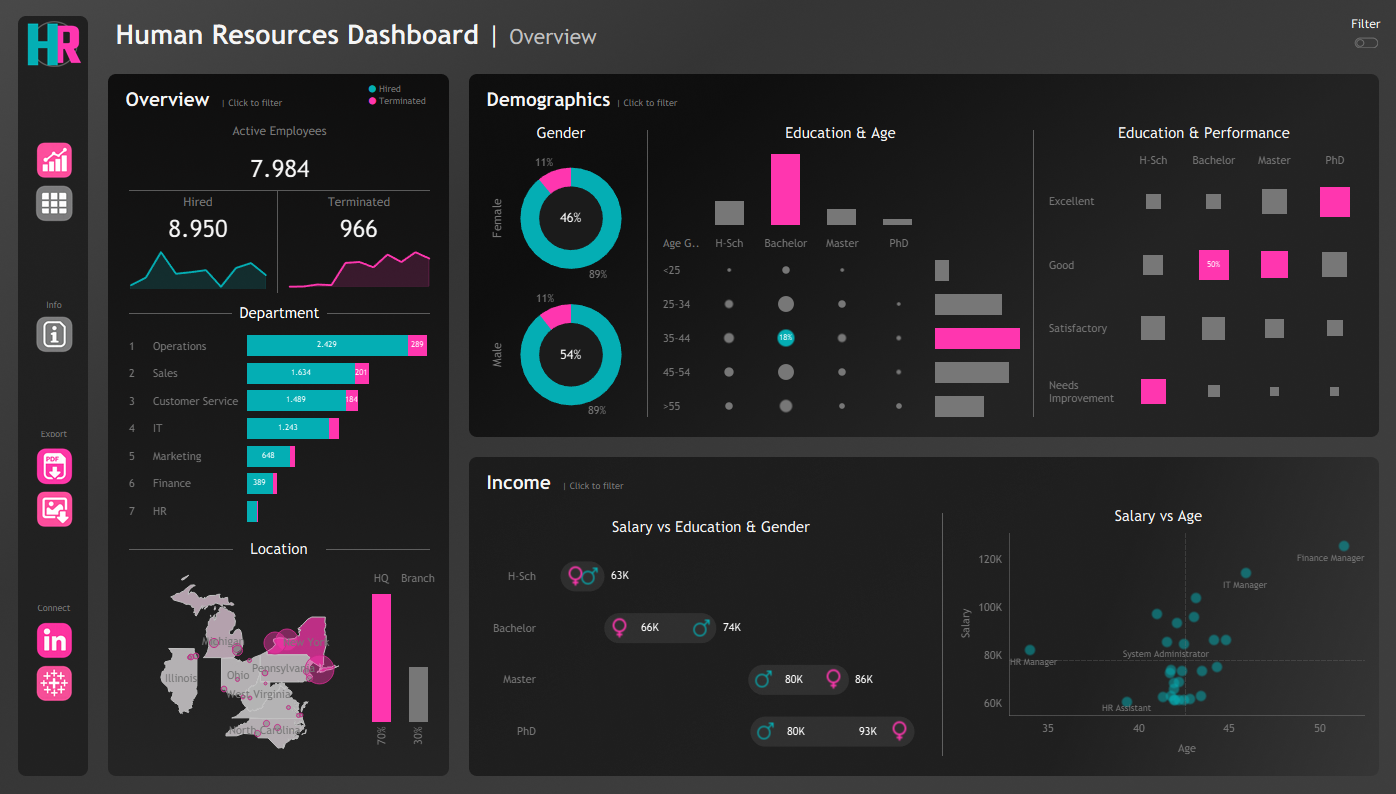

The dashboard page shown, as its layout file describes it:
{"tool":"tableau","page":{"name":"HR Overview","canvas":[1400,800],"ordinal":1},"visuals":[{"type":"image","param":"Image/bg summary.png","box":[0,0,1400,800]},{"type":"blank","box":[90,0,1308,231]},{"type":"text","box":[110,0,673,78]},{"type":"blank","box":[783,0,597,78]},{"type":"filter","title":"Salary vs Gender","param":"[federated.1sm890q15bl8hl1ebqggo0z0ojxl].[none:Gender:nk]","box":[664,16,170,48]},{"type":"filter","title":"Salary vs Gender","param":"[federated.1sm890q15bl8hl1ebqggo0z0ojxl].[none:Calculation_1305433860177922:nk]","box":[834,16,169,48]},{"type":"filter","title":"Salary vs Gender","param":"[federated.1sm890q15bl8hl1ebqggo0z0ojxl].[none:Calculation_0285361651957766:nk]","box":[1003,16,169,48]},{"type":"filter","title":"Salary vs Gender","param":"[federated.1sm890q15bl8hl1ebqggo0z0ojxl].[yr:Hiredate:ok]","box":[1172,16,169,48]},{"type":"image","param":"Image/Logo_out.png","box":[20,20,70,55]},{"type":"dashboard-object","box":[1355,34,24,24]},{"type":"blank","box":[20,75,70,60]},{"type":"text","box":[367,85,100,30]},{"type":"text","box":[120,88,321,31]},{"type":"text","box":[481,88,889,31]},{"type":"text","box":[120,119,321,32]},{"type":"text","box":[481,124,162,26]},{"type":"blank","box":[648,124,1,307]},{"type":"text","box":[654,124,375,26]},{"type":"blank","box":[1034,124,1,307]},{"type":"text","box":[1040,124,330,26]},{"type":"dashboard-object","box":[30,145,50,38]},{"type":"worksheet","title":"Gender","mark":"Pie","rows":["Gender"],"cols":["Calculation_0285361655631880","Calculation_0285361655631880"],"box":[481,150,162,281]},{"type":"worksheet","title":"Education Levels","mark":"Bar","rows":["Calculation_0285361647034368"],"cols":["Education Level"],"box":[654,150,375,83]},{"type":"worksheet","title":"Education vs Performance","mark":"Square","rows":["Performance Rating"],"cols":["Education Level"],"box":[1040,150,330,281]},{"type":"worksheet","title":"BAN Active","mark":"Automatic","box":[120,151,321,43]},{"type":"dashboard-object","box":[30,183,50,43]},{"type":"blank","box":[120,194,321,1]},{"type":"text","box":[120,195,158,22]},{"type":"blank","box":[278,195,1,102]},{"type":"text","box":[279,195,162,22]},{"type":"worksheet","title":"BAN Hired","mark":"Automatic","box":[120,217,158,32]},{"type":"worksheet","title":"BAN Terminated","mark":"Automatic","box":[279,217,162,32]},{"type":"blank","box":[30,226,50,73.3]},{"type":"text","box":[90,231,1308,200]},{"type":"worksheet","title":"Age vs Education","mark":"Circle","rows":["Calculation_1305433758306305"],"cols":["Education Level"],"box":[654,233,278,198]},{"type":"worksheet","title":"Age Groups","mark":"Bar","rows":["Calculation_1305433758306305"],"cols":["Calculation_0285361647034368"],"box":[932,233,97,198]},{"type":"worksheet","title":"Hired by Year","mark":"Line","rows":["Calculation_0285361647034368","Calculation_0285361647034368"],"cols":["Hiredate"],"box":[120,249,158,48]},{"type":"worksheet","title":"Terminated by Year","mark":"Line","rows":["Calculation_0285361647202305","Calculation_0285361647202305"],"cols":["Termdate"],"box":[279,249,162,48]},{"type":"text","box":[30,299.3,50,20]},{"type":"blank","box":[130,302,103,30]},{"type":"text","box":[233,302,95,30]},{"type":"blank","box":[328,302,103,30]},{"type":"dashboard-object","box":[30,319.3,50,38]},{"type":"worksheet","title":"Department","mark":"Bar","rows":["Calculation_0285361651195908","Department"],"cols":["Calculation_0285361647034368"],"box":[120,332,321,201]},{"type":"blank","box":[30,357.3,50,73.3]},{"type":"text","box":[30,430.7,50,20]},{"type":"blank","box":[90,431,1308,369]},{"type":"dashboard-object","box":[30,450.7,50,38]},{"type":"text","box":[481,471,889,31]},{"type":"dashboard-object","box":[30,488.7,50,43]},{"type":"blank","box":[943,507,1,263]},{"type":"text","box":[949,507,421,26]},{"type":"text","box":[486,512,452,38]},{"type":"blank","box":[30,531.7,50,73.3]},{"type":"worksheet","title":"Salary vs Age","mark":"Shape","rows":["Salary"],"cols":["Calculation_1305433757818880"],"box":[949,533,421,237]},{"type":"blank","box":[130,538,104.3,30]},{"type":"text","box":[234.3,538,92.3,30]},{"type":"blank","box":[326.6,538,104.3,30]},{"type":"worksheet","title":"Salary vs Gender","mark":"Square","rows":["Education Level"],"cols":["Salary","Salary"],"box":[486,550,452,215]},{"type":"worksheet","title":"Map State","mark":"Automatic","box":[120,568,240,202]},{"type":"worksheet","title":"Location","mark":"Automatic","rows":["Calculation_0285361647034368"],"cols":["Calculation_0285361651957766","Calculation1"],"box":[360,568,81,202]},{"type":"text","box":[30,605,50,20]},{"type":"image","param":"Image/linkedin icon pink.png","box":[30,625,50,38]},{"type":"image","param":"Image/Untitled design (3).png","box":[30,663,50,43]}]}

Visuals, with their boxes on the page's 1400x800 design canvas (x1, y1, x2, y2). These are canvas units, not pixel positions in the 1396x794 screenshot, which may show the page scaled, cropped or inside an application window:
image: [left=0, top=0, right=1400, bottom=800]
blank: [left=90, top=0, right=1398, bottom=231]
text: [left=110, top=0, right=783, bottom=78]
blank: [left=783, top=0, right=1380, bottom=78]
"Salary vs Gender" filter: [left=664, top=16, right=834, bottom=64]
"Salary vs Gender" filter: [left=834, top=16, right=1003, bottom=64]
"Salary vs Gender" filter: [left=1003, top=16, right=1172, bottom=64]
"Salary vs Gender" filter: [left=1172, top=16, right=1341, bottom=64]
image: [left=20, top=20, right=90, bottom=75]
dashboard-object: [left=1355, top=34, right=1379, bottom=58]
blank: [left=20, top=75, right=90, bottom=135]
text: [left=367, top=85, right=467, bottom=115]
text: [left=120, top=88, right=441, bottom=119]
text: [left=481, top=88, right=1370, bottom=119]
text: [left=120, top=119, right=441, bottom=151]
text: [left=481, top=124, right=643, bottom=150]
blank: [left=648, top=124, right=649, bottom=431]
text: [left=654, top=124, right=1029, bottom=150]
blank: [left=1034, top=124, right=1035, bottom=431]
text: [left=1040, top=124, right=1370, bottom=150]
dashboard-object: [left=30, top=145, right=80, bottom=183]
"Gender" worksheet (Pie marks): [left=481, top=150, right=643, bottom=431]
"Education Levels" worksheet (Bar marks): [left=654, top=150, right=1029, bottom=233]
"Education vs Performance" worksheet (Square marks): [left=1040, top=150, right=1370, bottom=431]
"BAN Active" worksheet: [left=120, top=151, right=441, bottom=194]
dashboard-object: [left=30, top=183, right=80, bottom=226]
blank: [left=120, top=194, right=441, bottom=195]
text: [left=120, top=195, right=278, bottom=217]
blank: [left=278, top=195, right=279, bottom=297]
text: [left=279, top=195, right=441, bottom=217]
"BAN Hired" worksheet: [left=120, top=217, right=278, bottom=249]
"BAN Terminated" worksheet: [left=279, top=217, right=441, bottom=249]
blank: [left=30, top=226, right=80, bottom=299]
text: [left=90, top=231, right=1398, bottom=431]
"Age vs Education" worksheet (Circle marks): [left=654, top=233, right=932, bottom=431]
"Age Groups" worksheet (Bar marks): [left=932, top=233, right=1029, bottom=431]
"Hired by Year" worksheet (Line marks): [left=120, top=249, right=278, bottom=297]
"Terminated by Year" worksheet (Line marks): [left=279, top=249, right=441, bottom=297]
text: [left=30, top=299, right=80, bottom=319]
blank: [left=130, top=302, right=233, bottom=332]
text: [left=233, top=302, right=328, bottom=332]
blank: [left=328, top=302, right=431, bottom=332]
dashboard-object: [left=30, top=319, right=80, bottom=357]
"Department" worksheet (Bar marks): [left=120, top=332, right=441, bottom=533]
blank: [left=30, top=357, right=80, bottom=431]
text: [left=30, top=431, right=80, bottom=451]
blank: [left=90, top=431, right=1398, bottom=800]
dashboard-object: [left=30, top=451, right=80, bottom=489]
text: [left=481, top=471, right=1370, bottom=502]
dashboard-object: [left=30, top=489, right=80, bottom=532]
blank: [left=943, top=507, right=944, bottom=770]
text: [left=949, top=507, right=1370, bottom=533]
text: [left=486, top=512, right=938, bottom=550]
blank: [left=30, top=532, right=80, bottom=605]
"Salary vs Age" worksheet (Shape marks): [left=949, top=533, right=1370, bottom=770]
blank: [left=130, top=538, right=234, bottom=568]
text: [left=234, top=538, right=327, bottom=568]
blank: [left=327, top=538, right=431, bottom=568]
"Salary vs Gender" worksheet (Square marks): [left=486, top=550, right=938, bottom=765]
"Map State" worksheet: [left=120, top=568, right=360, bottom=770]
"Location" worksheet: [left=360, top=568, right=441, bottom=770]
text: [left=30, top=605, right=80, bottom=625]
image: [left=30, top=625, right=80, bottom=663]
image: [left=30, top=663, right=80, bottom=706]
